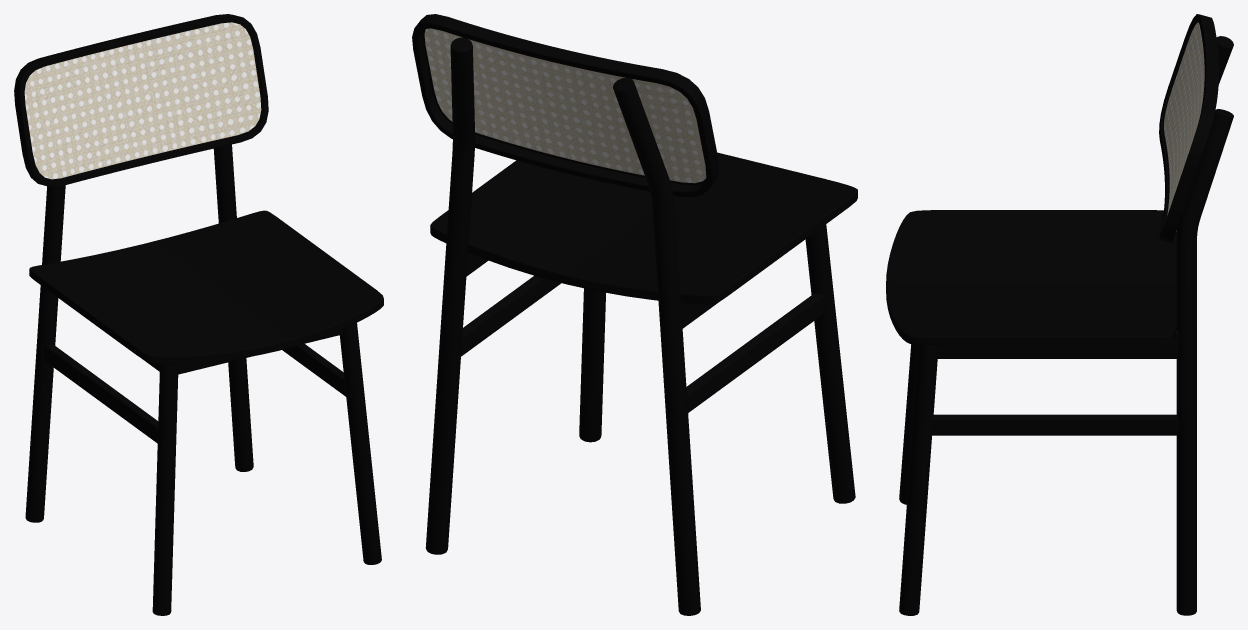
The model's file is MEGA_PACK_Chair__chair-408727_black_frame.glb.
The picture shows the model from 3 angles, left to right: view 1: azimuth 30°, elevation 25°; view 2: azimuth 150°, elevation 25°; view 3: azimuth 270°, elevation 25°; orthographic projection. The views are drawn at different scales.
Visible parts, largest first — view 1: chair-408727_black__frame; view 2: chair-408727_black__frame; view 3: chair-408727_black__frame.
Part boxes in pixels (box(x1,y1,x2,y2)): chair-408727_black__frame: box(14, 14, 383, 615); chair-408727_black__frame: box(412, 14, 857, 615); chair-408727_black__frame: box(886, 14, 1233, 615).
Bounding box in the file's own units: 0.45 × 0.81 × 0.52.
Materials: 1 (1 with a texture image).
